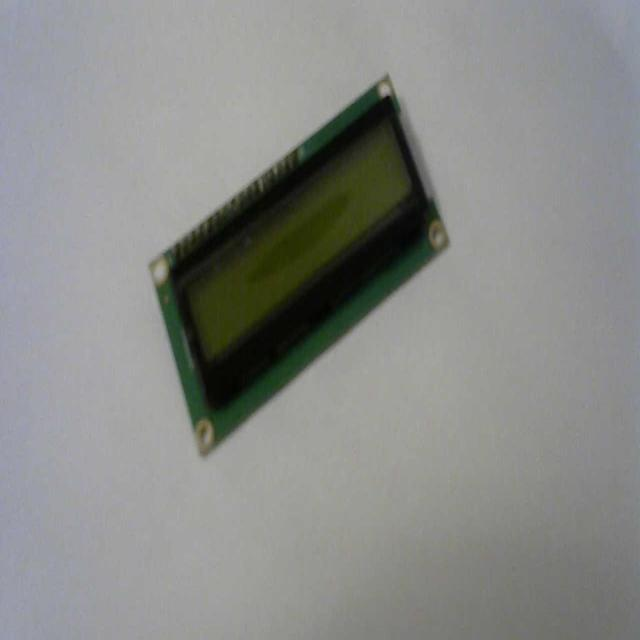lcd: (148, 71, 450, 456)
